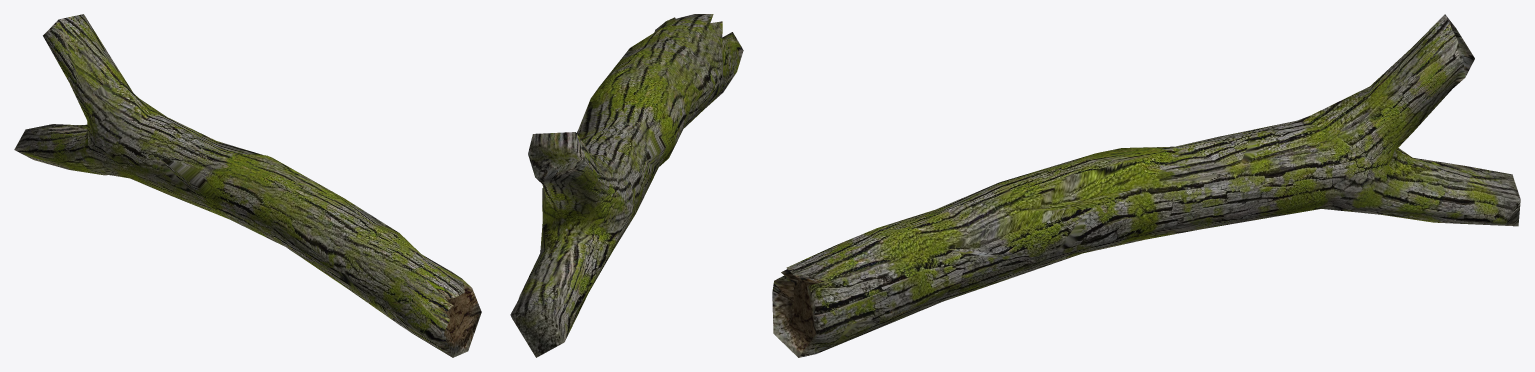
File: dirtpath.glb
3 renders of one model, left to right at view 1: azimuth 30°, elevation 25°; view 2: azimuth 150°, elevation 25°; view 3: azimuth 270°, elevation 25°, orthographic. The views are drawn at different scales.
Parts seen in each view (by area): view 1: tripo_node_0f86836f-7592-4443-bc36-8b8230935912; view 2: tripo_node_0f86836f-7592-4443-bc36-8b8230935912; view 3: tripo_node_0f86836f-7592-4443-bc36-8b8230935912.
Part boxes in pixels (x1=…): tripo_node_0f86836f-7592-4443-bc36-8b8230935912: x1=14, y1=14, x2=481, y2=357; tripo_node_0f86836f-7592-4443-bc36-8b8230935912: x1=510, y1=14, x2=743, y2=357; tripo_node_0f86836f-7592-4443-bc36-8b8230935912: x1=772, y1=14, x2=1520, y2=357.
Size of the model in its own units: 0.3951 by 0.3586 by 1.
1 material, 1 textured.
